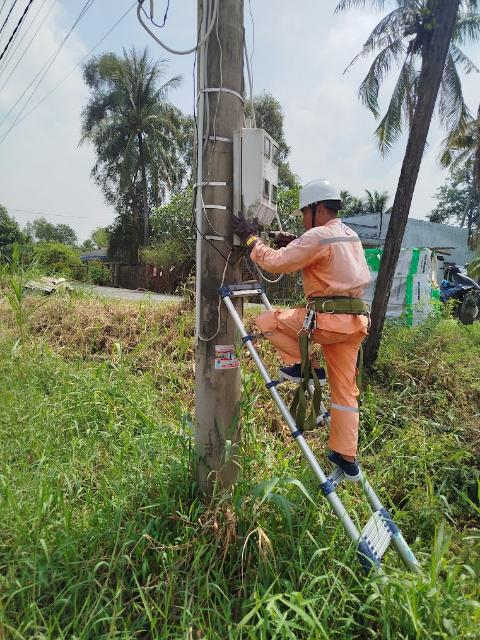gloves: (226, 211, 263, 258), (249, 209, 272, 244)
harness: (275, 281, 368, 322)
helmet: (280, 162, 351, 227)
shoes: (319, 434, 372, 485), (270, 359, 331, 387)
